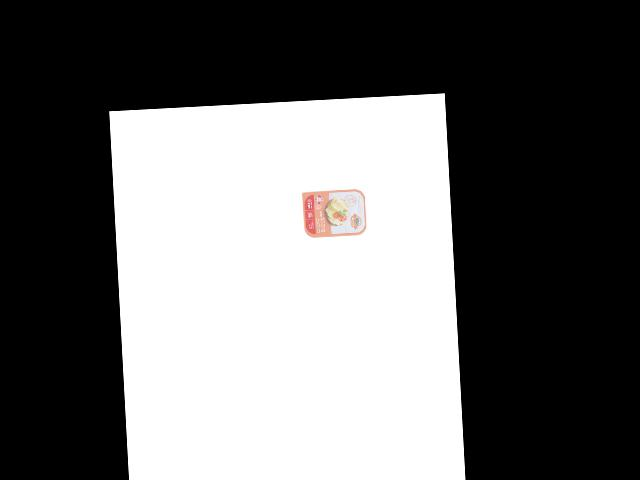cheese: (298, 187, 368, 241)
